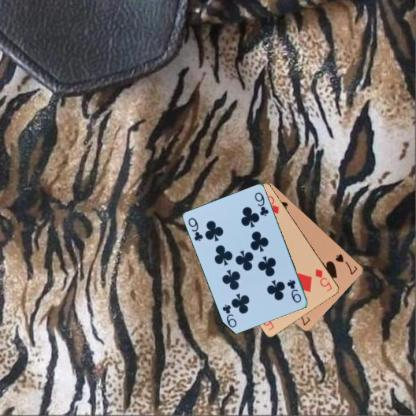5d: (312, 266, 334, 293)
7s: (333, 252, 359, 276)
9c: (284, 277, 303, 304), (186, 215, 204, 243)
